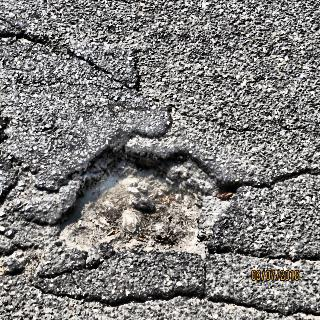alligator-crack: (3, 23, 158, 100), (77, 276, 304, 316), (0, 149, 58, 289)
pothole: (59, 128, 244, 257)
